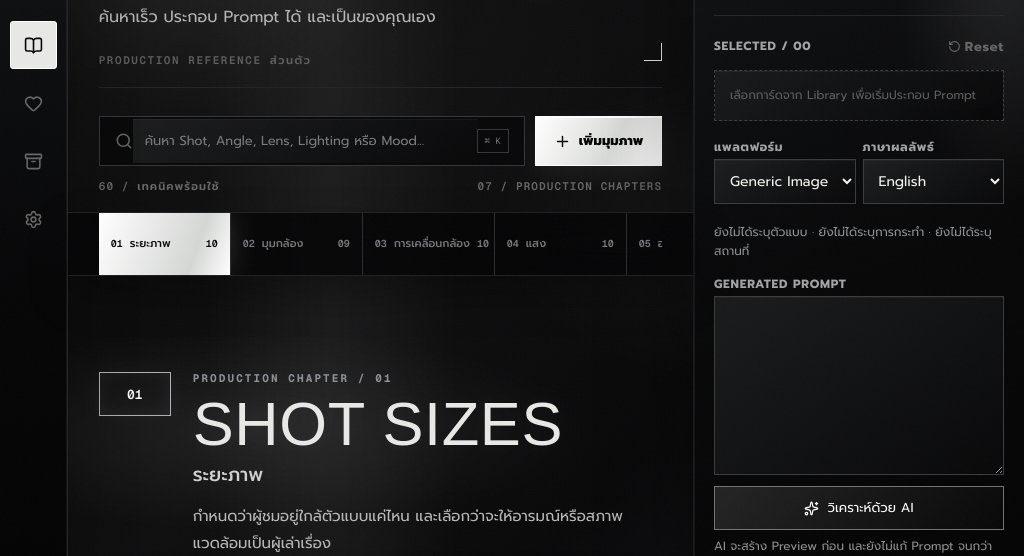
Test: owner-managed application controls › previews without overwriting and applies only after confirmation
This screenshot has width=1024, height=556.
(page scrolled)
Click the button "วิเคราะห์ด้วย AI" at (859, 508), box [714,486,1004,530]
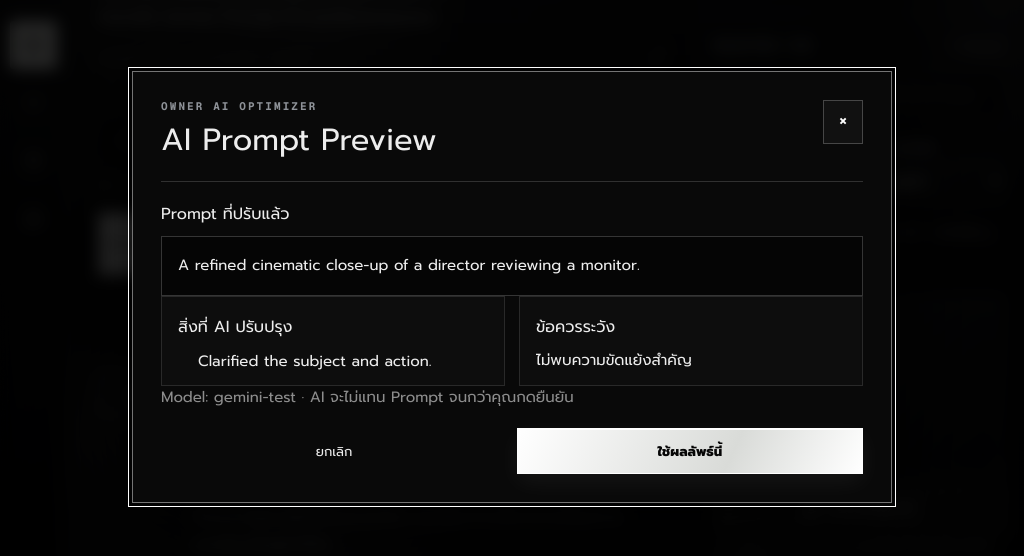
Expected: the text box labelled "GENERATED PROMPT" is empty, [714,296,1004,475]
Expected: the dialog "AI Prompt Preview" shows "A refined cinematic close-up of a director reviewing a monitor.", [178,254,640,276]
Click the button "ใช้ผลลัพธ์นี้" at (690, 451), box [517,428,863,474]
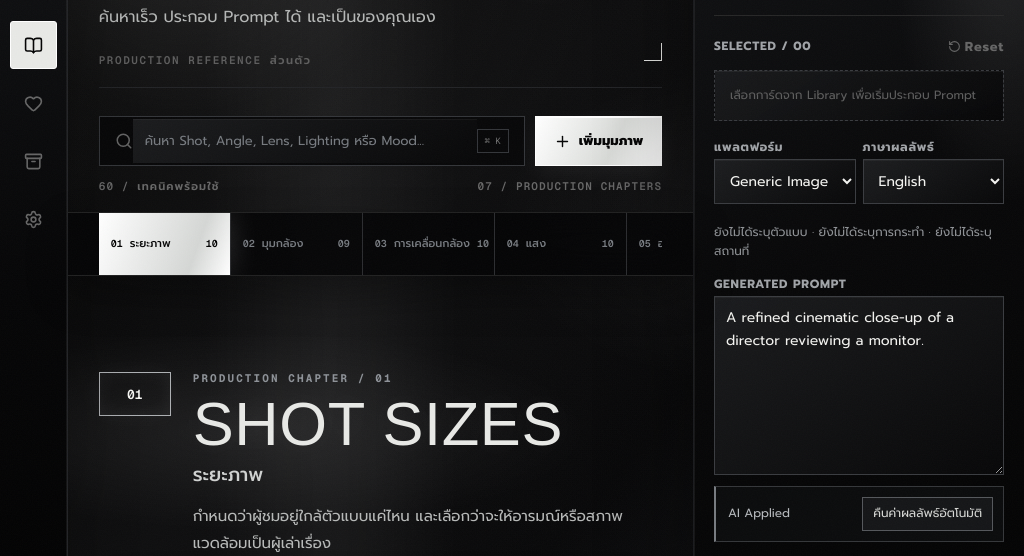
Expected: the text box labelled "GENERATED PROMPT" holds "A refined cinematic close-up of a director reviewing a monitor.", [714,296,1004,475]
Expected: the text "AI Applied" is shown, [728,505,790,523]
